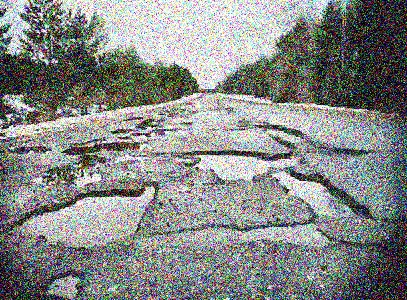pothole: (1, 178, 161, 251), (136, 218, 333, 253), (269, 169, 375, 219), (184, 151, 303, 183), (36, 153, 108, 187), (256, 121, 314, 151), (62, 138, 151, 153), (43, 267, 83, 299), (331, 145, 371, 157), (7, 143, 52, 153)
